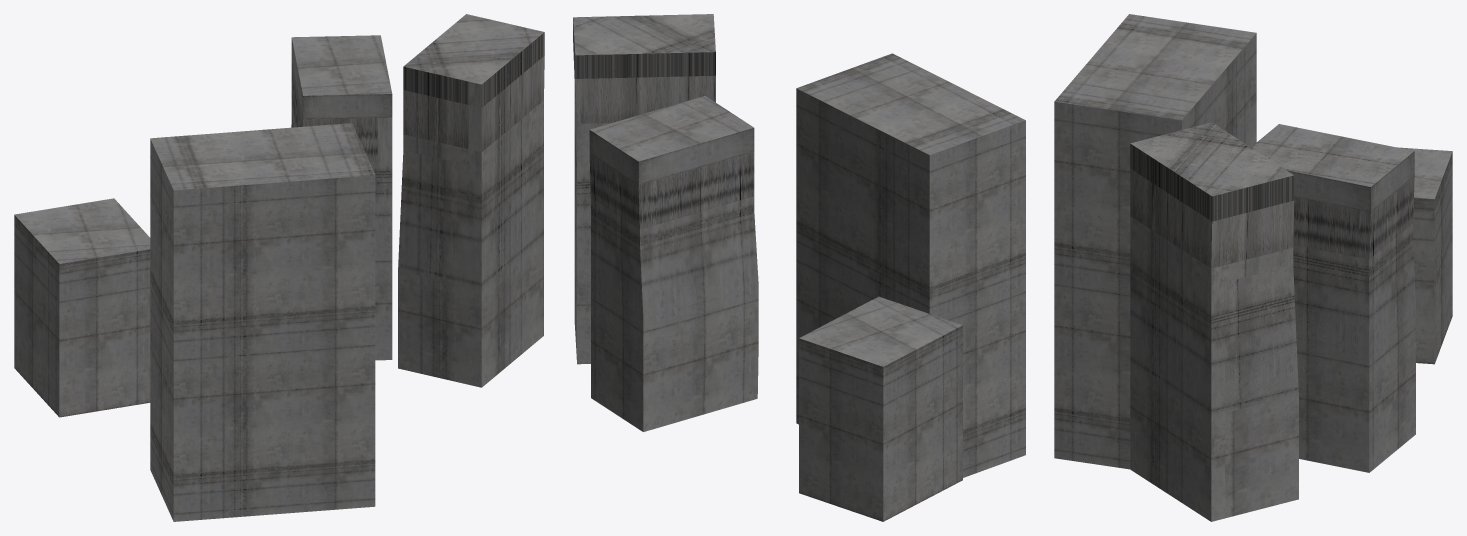
The model's file is SM_BetonDarme_01_07.fbx.
The picture shows the model from 3 angles, left to right: view 1: azimuth 30°, elevation 25°; view 2: azimuth 150°, elevation 25°; view 3: azimuth 270°, elevation 25°; orthographic projection. The views are drawn at different scales.
Parts seen in each view (by area): view 1: SM_BetonDarme_01_07; view 2: SM_BetonDarme_01_07; view 3: SM_BetonDarme_01_07.
Part boxes in pixels (bbox=[...]): SM_BetonDarme_01_07: bbox=[14, 14, 544, 521]; SM_BetonDarme_01_07: bbox=[573, 14, 1025, 521]; SM_BetonDarme_01_07: bbox=[1054, 14, 1452, 521].
Size of the model in its own units: 10867 by 8623 by 8000.
